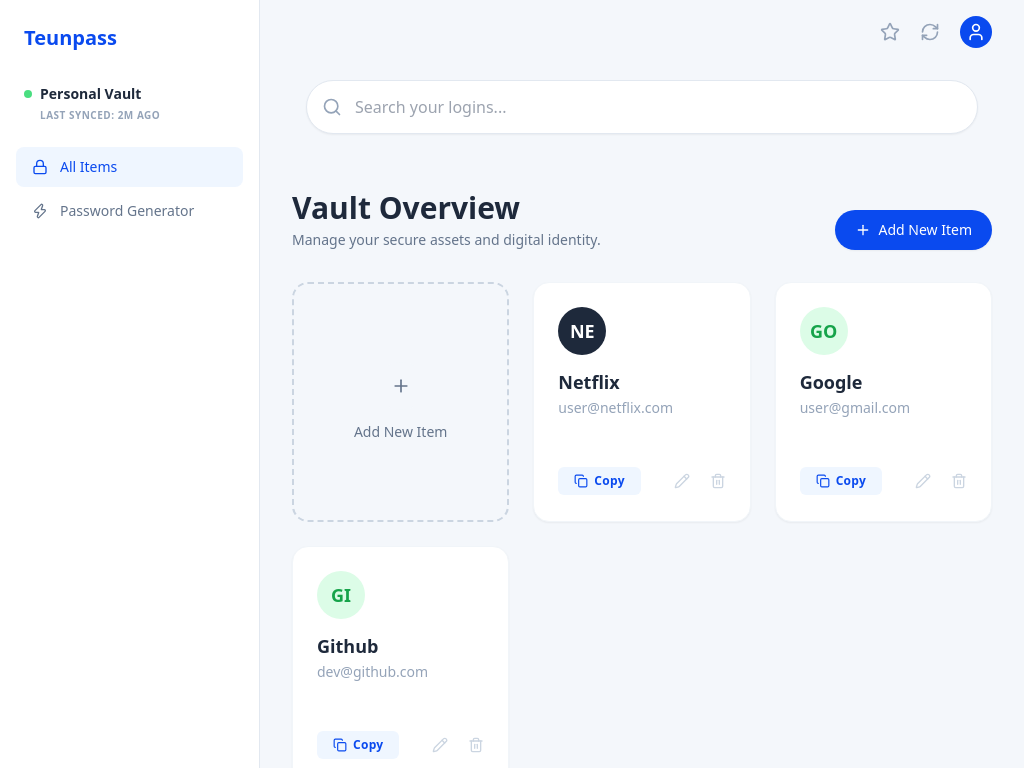
Test case: VaultDashboard (TC-04) › filters vault items based on search query
This screenshot has width=1024, height=768.
Expected: the heading "Netflix" is shown, x1=558 y1=370 x2=620 y2=394
Expected: the heading "Google" is shown, x1=800 y1=370 x2=862 y2=394
# Type "net" in search
In the field with placeholder "Search your logins...": (642, 107) x1=306 y1=80 x2=978 y2=134, type "net"
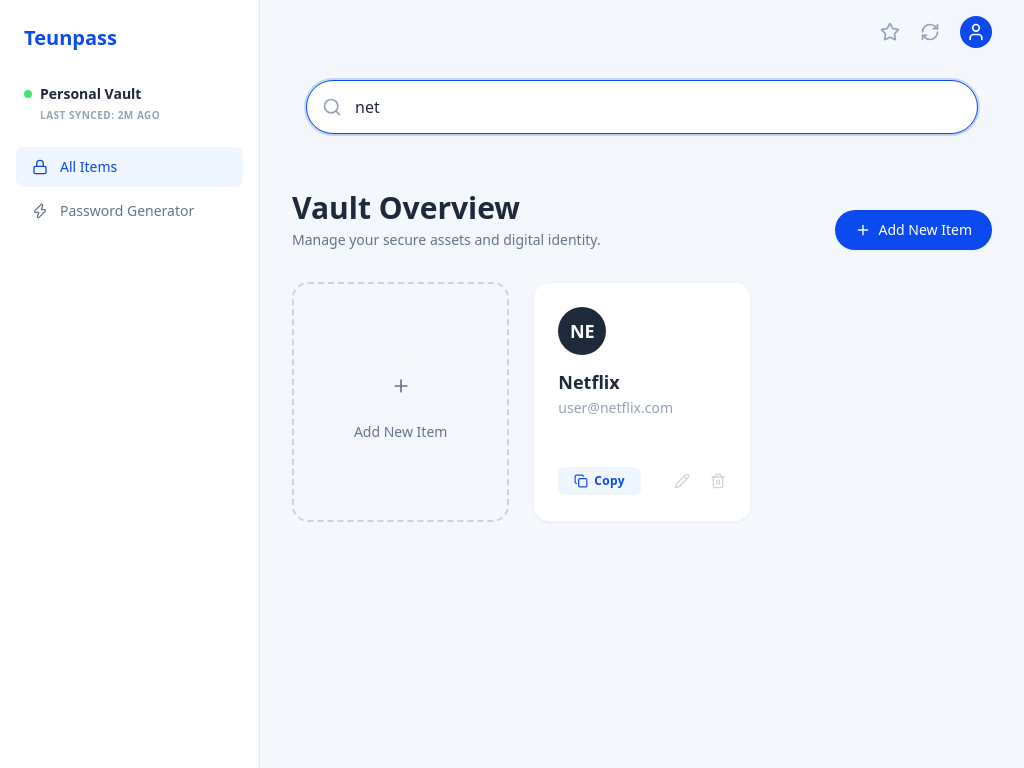
Expected: the heading "Netflix" is shown, x1=558 y1=370 x2=620 y2=394
Now the heading "Google" is gone
Now the heading "Github" is gone
